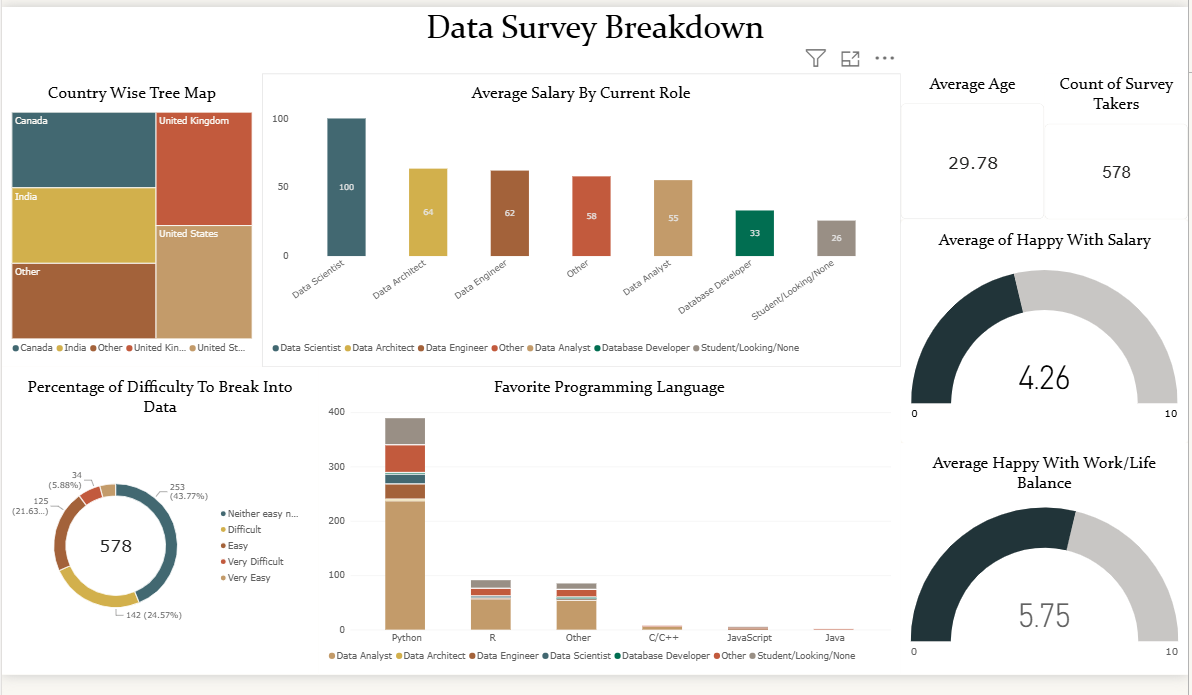

What the dashboard file says about the page in this screenshot:
{"tool":"powerbi","page":{"name":"Page 1","canvas":[1920,1080],"ordinal":0},"visuals":[{"type":"cardVisual","title":"Count of Survey Takers","fields":{"Data":["CountNonNull(Data Professional Survey.Unique ID)"]},"box":[1687.7,107.3,232.6,236.7],"z":0},{"type":"textbox","box":[150,707,300,300],"z":2},{"type":"textbox","box":[0,0,1920.4,107.3],"z":3},{"type":"columnChart","title":"Average Salary By Current Role","fields":{"Category":["Data Professional Survey.Current Role"],"Series":["Data Professional Survey.Current Role"],"Y":["Avg(Data Professional Survey.Average Salary)"]},"box":[420.9,107.3,1034.1,475.5],"z":4},{"type":"columnChart","title":"Favorite Programming Language","fields":{"Category":["Data Professional Survey.Favorite Programming Language"],"Series":["Data Professional Survey.Current Role"],"Y":["CountNonNull(Data Professional Survey.Unique ID)"]},"box":[512,582.8,943,497.8],"z":5},{"type":"treemap","title":"Country Wise Tree Map","fields":{"Group":["Data Professional Survey.Country"],"Values":["Count(Data Professional Survey.Country)"]},"box":[0,107.3,420.9,475.5],"z":6},{"type":"gauge","title":"Average of Happy With Salary","fields":{"MaxValue":["Max(Data Professional Survey.How Happy With Salary)"],"MinValue":["Min(Data Professional Survey.How Happy With Salary)"],"Y":["Avg(Data Professional Survey.How Happy With Salary)"]},"box":[1455,344,465.4,362.2],"z":7},{"type":"gauge","title":"Average Happy With Work/Life Balance","fields":{"MaxValue":["Max(Data Professional Survey.How Happy With Work/Life Balance)2"],"MinValue":["Min(Data Professional Survey.How Happy With Work/Life Balance)1"],"Y":["Avg(Data Professional Survey.How Happy With Work/Life Balance)"]},"box":[1455,706.2,465.4,374.4],"z":8},{"type":"cardVisual","title":"Average Age ","fields":{"Data":["Avg(Data Professional Survey.Current Age)"]},"box":[1455,107.3,232.7,236.8],"z":10},{"type":"donutChart","title":"Percentage of Difficulty To Break Into Data","fields":{"Category":["Data Professional Survey.Difficulty To Break Into Data"],"Y":["CountNonNull(Data Professional Survey.Difficulty To Break Into Data)"]},"box":[0,582.8,512,497.8],"z":11}]}

Visuals, with their boxes on the page's 1920x1080 design canvas (x1, y1, x2, y2). These are canvas units, not pixel positions in the 1192x695 screenshot, which may show the page scaled, cropped or inside an application window:
"Count of Survey Takers" cardVisual: 1688:107:1920:344
textbox: 150:707:450:1007
textbox: 0:0:1920:107
"Average Salary By Current Role" columnChart: 421:107:1455:583
"Favorite Programming Language" columnChart: 512:583:1455:1081
"Country Wise Tree Map" treemap: 0:107:421:583
"Average of Happy With Salary" gauge: 1455:344:1920:706
"Average Happy With Work/Life Balance" gauge: 1455:706:1920:1081
"Average Age " cardVisual: 1455:107:1688:344
"Percentage of Difficulty To Break Into Data" donutChart: 0:583:512:1081
